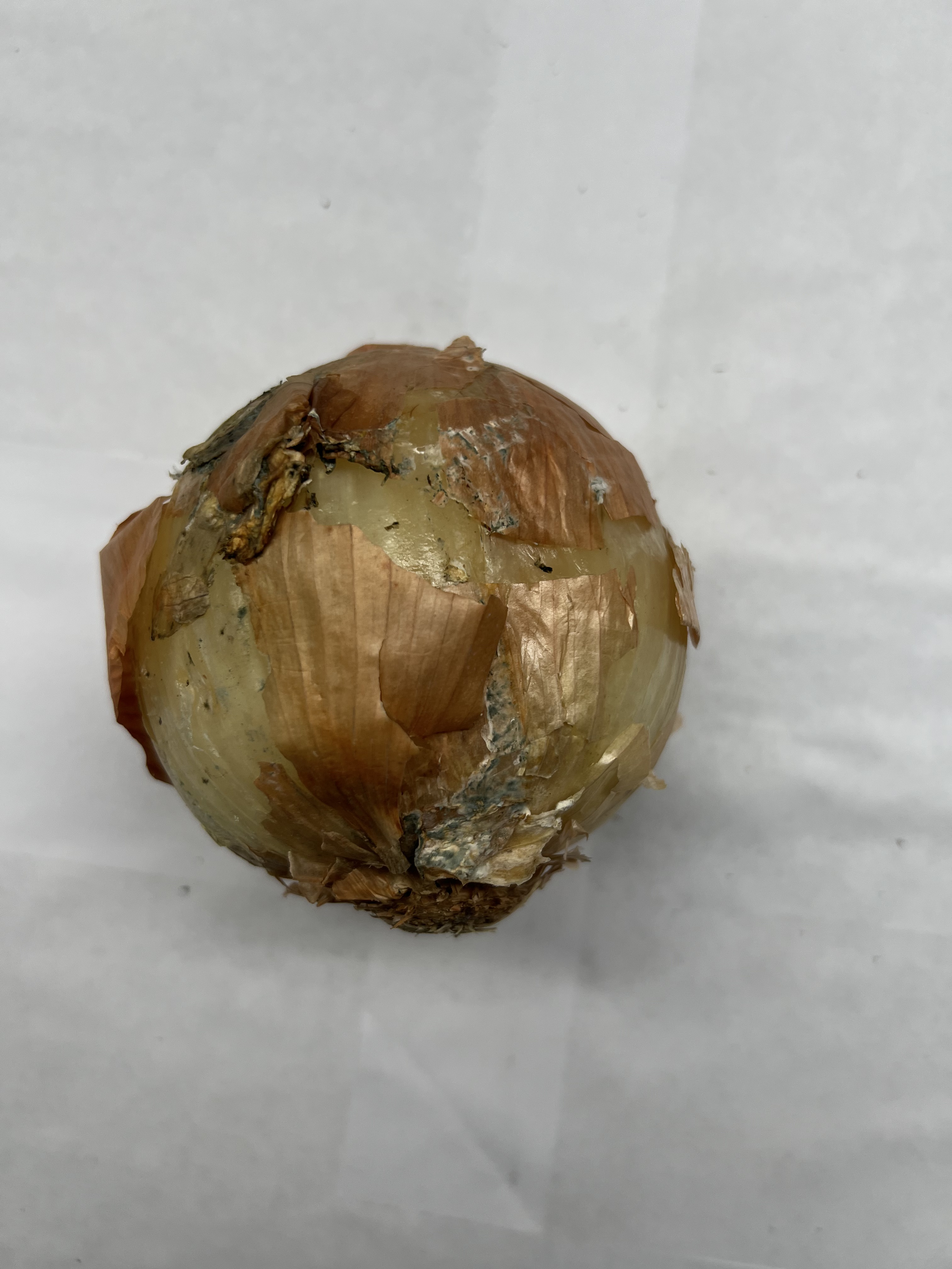produce: (90, 335, 708, 939)
